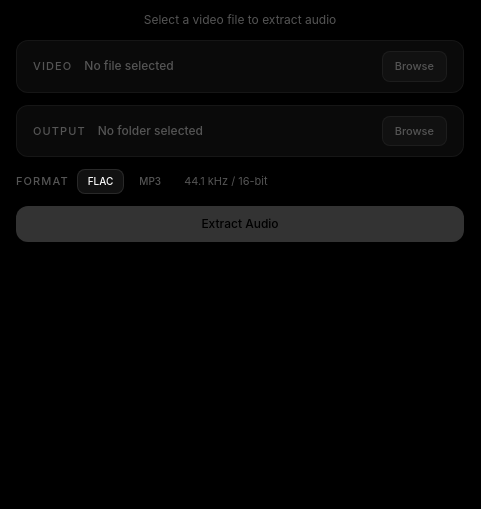
Scenario: VideoExtractor › extracts audio without chapters
expect the text "No file selected" is shown: met, box [84, 58, 174, 73]
// Pick video
Click the text "No file selected".
click(240, 66)  # box [16, 40, 464, 92]
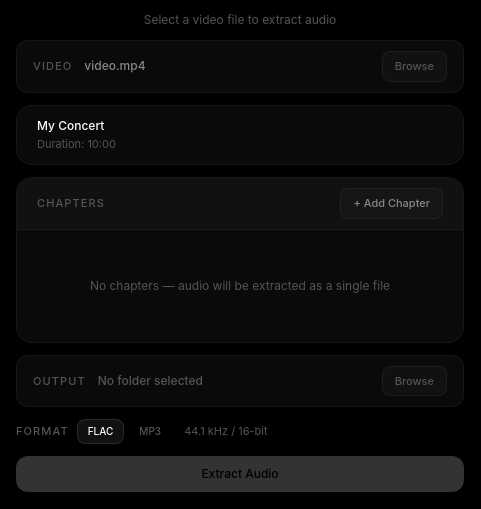
expect the text "My Concert" is shown: met, box [37, 118, 104, 132]
// Pick output
Click the button "Browse".
click(414, 381)  # box [382, 366, 447, 396]
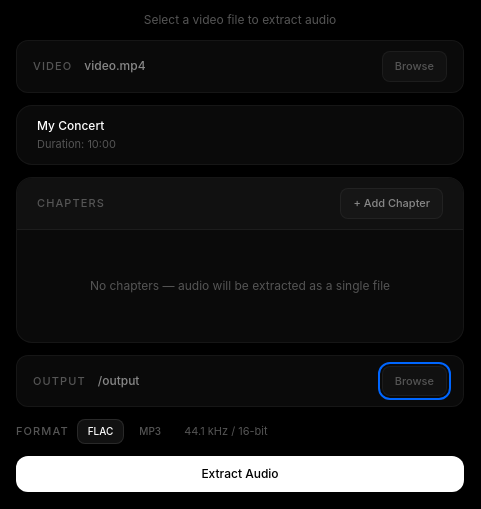
expect the button "Extract Audio" is enabled: met
Click the button "Extract Audio".
click(240, 474)  # box [16, 456, 464, 492]
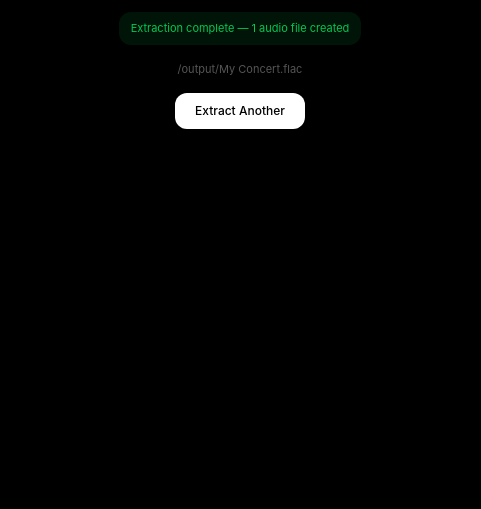
expect the text "Extraction complete — 1 audio file created" is shown: met, box [119, 12, 361, 44]
